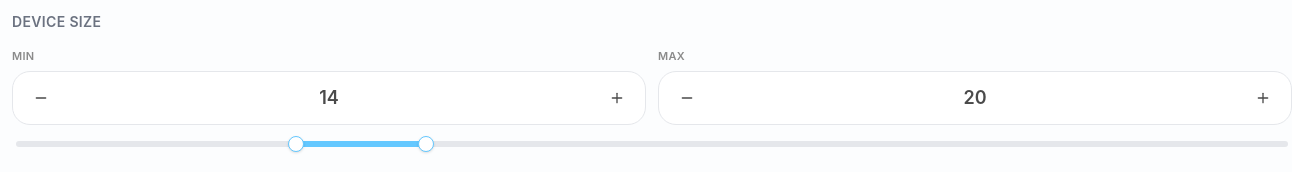
Test: Size range steppers › clamps an out-of-range value to the bound on blur
Replace the text in the number field named "Max size" with "3" at (975, 98), box left=713, top=84, right=1237, bottom=112
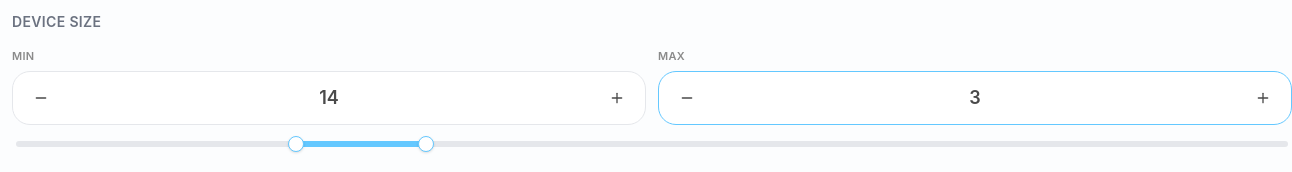
Press Tab
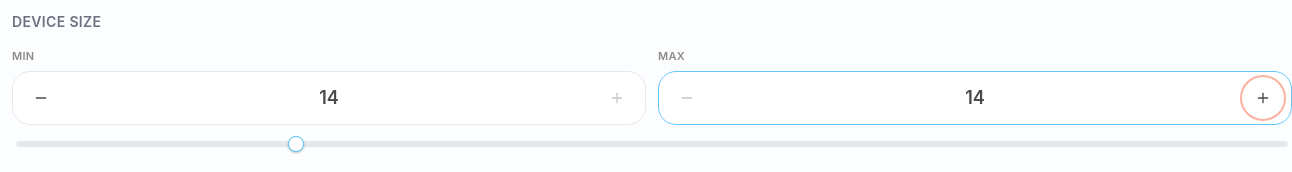
Now the number field named "Max size" holds "14", box left=713, top=84, right=1237, bottom=112
